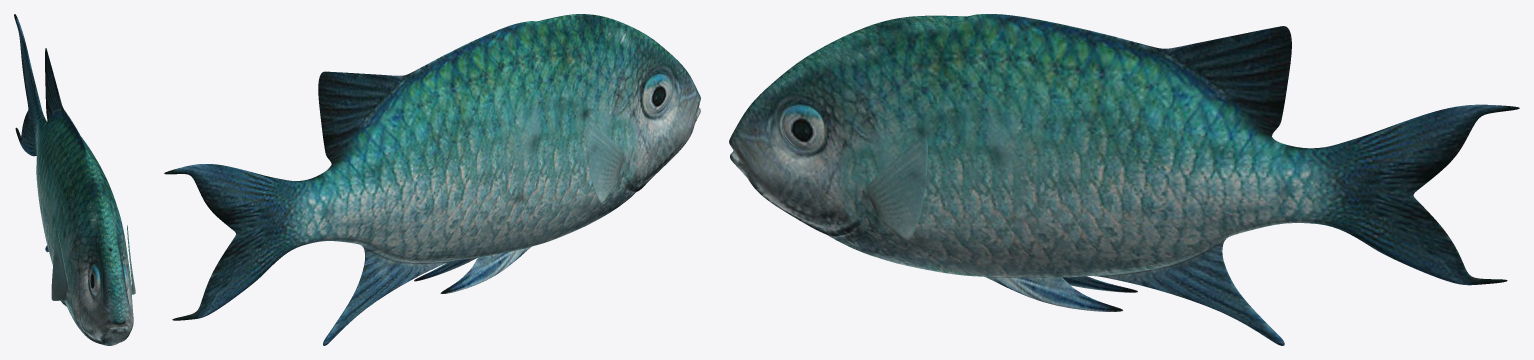
The model's file is Fish_3.gltf.
3 renders of one model, left to right at view 1: azimuth 30°, elevation 25°; view 2: azimuth 150°, elevation 25°; view 3: azimuth 270°, elevation 25°, orthographic. The views are drawn at different scales.
Visible parts, largest first — view 1: Default; view 2: Default; view 3: Default.
Part boxes in pixels (x1,y1,x2,y2): Default: (14,14,135,345); Default: (164,14,700,345); Default: (729,14,1519,345).
Bounding box in the file's own units: 64.65 × 82.1 × 184.
Materials: 1 (1 with a texture image).
